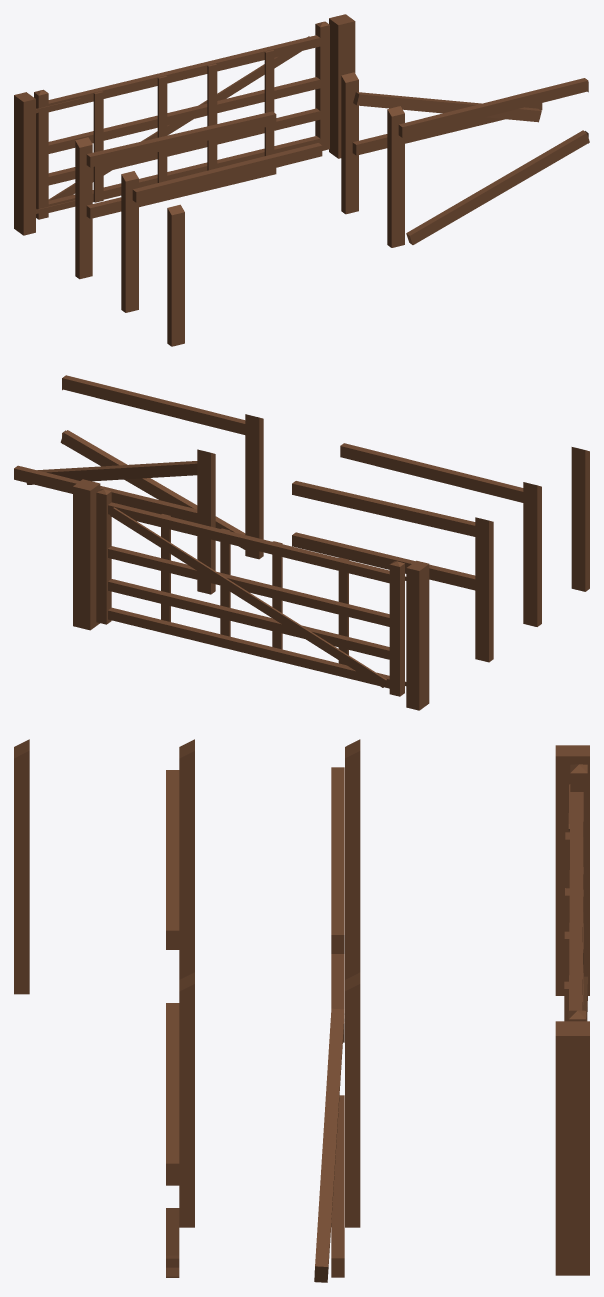
The model's file is farm_fences.fbx.
3 renders of one model, top to bottom at view 1: azimuth 30°, elevation 25°; view 2: azimuth 150°, elevation 25°; view 3: azimuth 270°, elevation 25°, orthographic. The views are drawn at different scales.
Visible parts, largest first — view 1: gate, fence1, fence5, fence4, gatepost, fence3, fencepost; view 2: gate, fence5, fence1, gatepost, fence4, fence3, fencepost; view 3: gatepost, fence4, fence1, fence5, fence3, gate, fencepost.
Part boxes in pixels (bbox=[...]): gate: bbox=[34, 21, 329, 219]; fence1: bbox=[387, 78, 589, 247]; fence5: bbox=[75, 111, 276, 279]; fence4: bbox=[341, 72, 542, 214]; gatepost: bbox=[14, 14, 355, 235]; fence3: bbox=[121, 143, 322, 312]; fencepost: bbox=[167, 204, 184, 346]; gate: bbox=[96, 489, 406, 696]; fence5: bbox=[292, 481, 493, 662]; fence1: bbox=[60, 375, 263, 559]; gatepost: bbox=[73, 479, 429, 710]; fence4: bbox=[14, 449, 215, 594]; fence3: bbox=[340, 443, 541, 626]; fencepost: bbox=[571, 447, 589, 591]; gatepost: bbox=[555, 745, 589, 1275]; fence4: bbox=[314, 972, 360, 1282]; fence1: bbox=[166, 972, 194, 1277]; fence5: bbox=[331, 739, 360, 1042]; fence3: bbox=[166, 739, 194, 979]; gate: bbox=[564, 764, 587, 1021]; fencepost: bbox=[14, 739, 29, 994].
Bounding box in the file's own units: 1731 × 488 × 1045.
